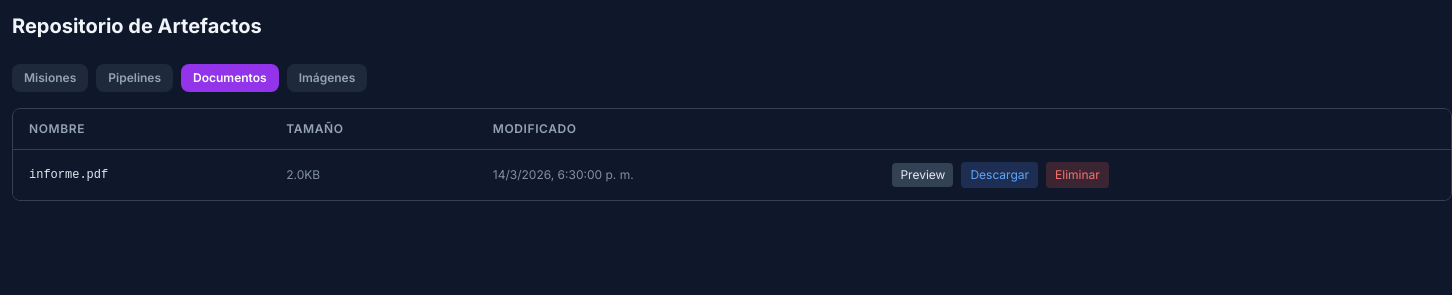
Test: AdminRepository -- la pestaña "Pipelines" muestra el historial ahí mismo (no redirige, ya no es una carpeta vacía) › activar "Pipelines" pide el historial y lo muestra en la pestaña -- no la carpeta de archivos (siempre vacía)
This screenshot has width=1452, height=295.
Expected: the text "informe.pdf" is shown, [13,150,270,200]
Click the button "Pipelines".
click(135, 78)  # box [96,64,173,92]
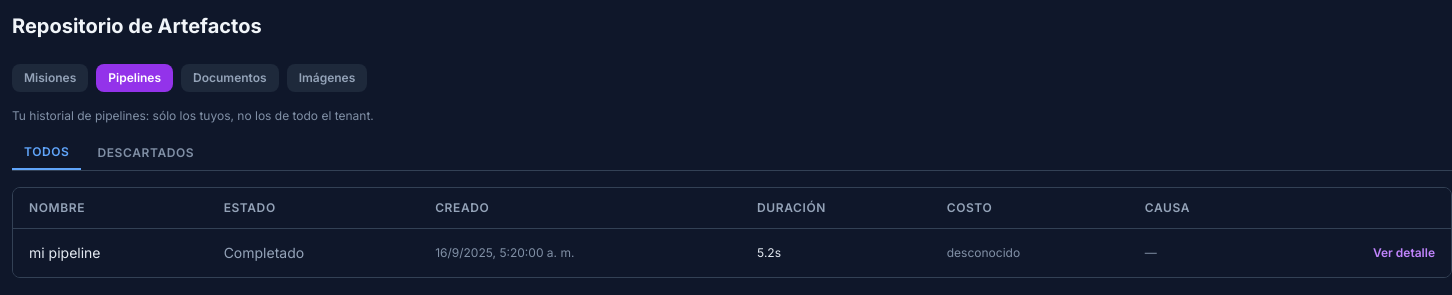
Result: the text "mi pipeline" is shown at [13,228,208,277]
